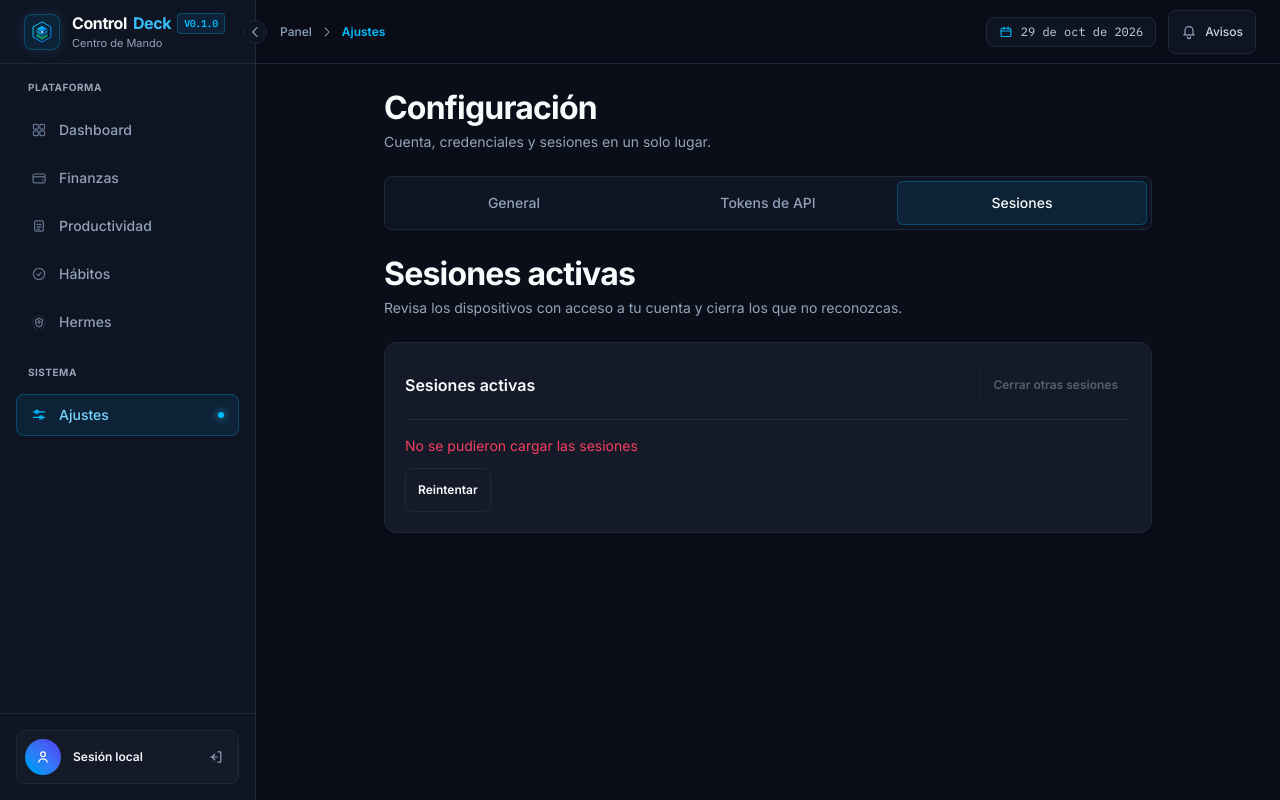
Test case: sessions page › shows the error state with retry
The width and height of the screenshot is (1280, 800).
Expected: the text "No se pudieron cargar las sesiones" is shown, [405, 437, 638, 454]
Click the button "Reintentar" at (448,490), box [405, 468, 491, 512]
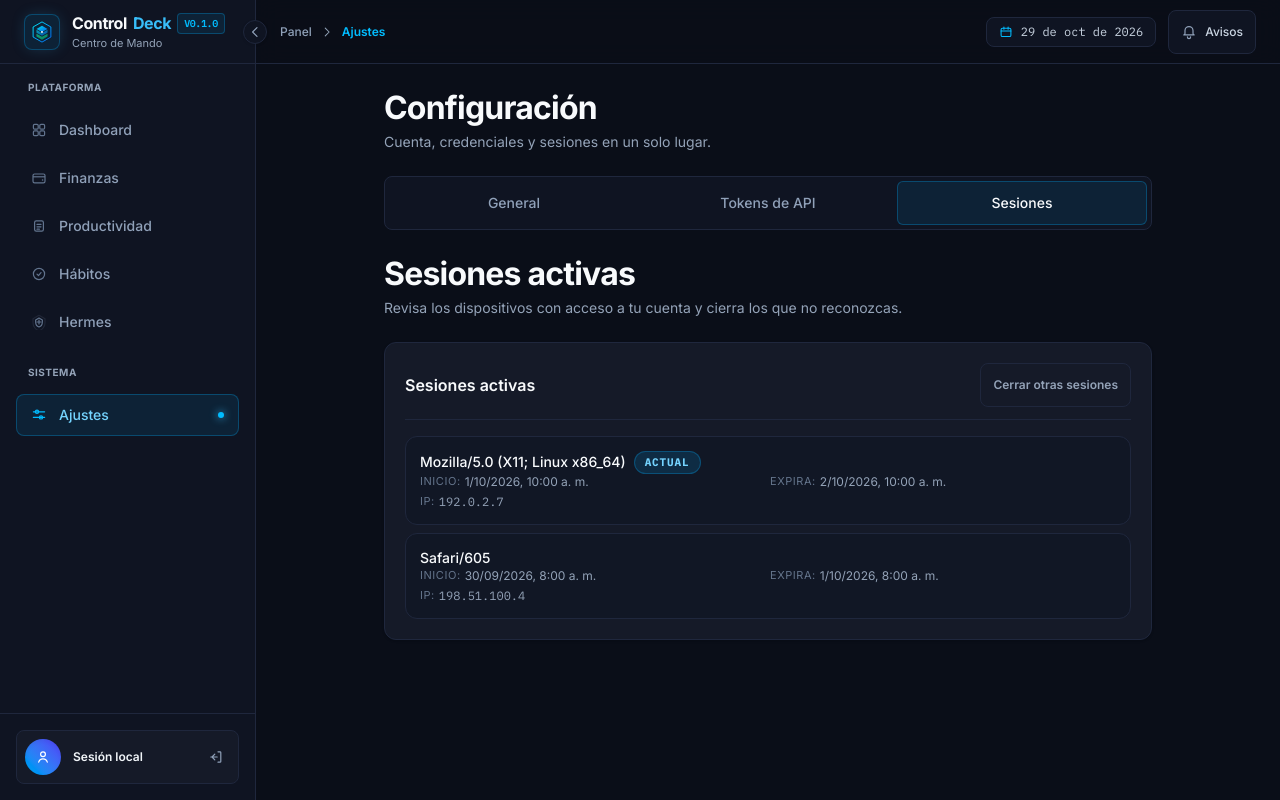
Expected: the text "Safari/605" is shown, [420, 548, 490, 568]
